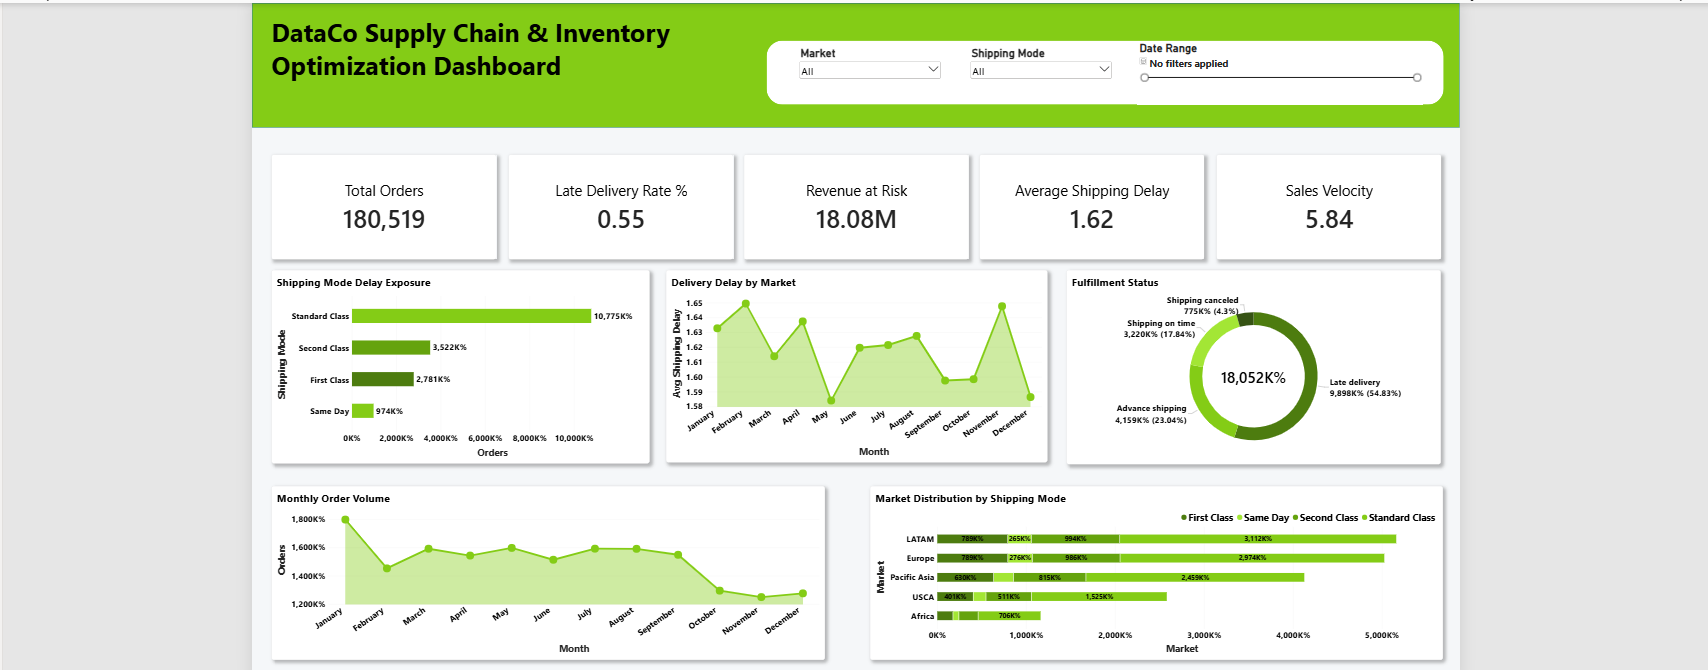

This screenshot's page, from the dashboard's own definition file:
{"tool":"powerbi","page":{"name":"Executive Overview","canvas":[3840,2160],"ordinal":0},"visuals":[{"type":"shape","box":[0,0,3841.3,396.1],"z":0},{"type":"textbox","box":[62,38.2,1574.7,262.5],"z":1000},{"type":"cardVisual","fields":{"Data":["cleaned_supply_chain.-- 1. Total Orders ShippedTotal Orders"]},"box":[62,482,715.8,334],"z":2000},{"type":"cardVisual","fields":{"Data":["cleaned_supply_chain.-- 3. Revenue at Risk ($)Revenue at Risk"]},"box":[1565.2,482,715,334],"z":3000},{"type":"cardVisual","fields":{"Data":["cleaned_supply_chain.-- 2. Late Delivery Rate %Late Delivery Rate %"]},"box":[816,482,715.8,334],"z":4000},{"type":"cardVisual","fields":{"Data":["cleaned_supply_chain.-- 4. Average Shipping Delay (Days)Avg Shipping Delay"]},"box":[2314.3,482,715,334],"z":5000},{"type":"cardVisual","fields":{"Data":["cleaned_supply_chain.Sales Velocity"]},"box":[3068.3,482,715,334],"z":6000},{"type":"clusteredBarChart","title":"Shipping Mode Delay Exposure","fields":{"Category":["cleaned_supply_chain.shipping_mode"],"Y":["cleaned_supply_chain.Total Orders"]},"box":[62,849.4,1202.5,615.6],"z":7000},{"type":"donutChart","title":"Fulfillment Status","fields":{"Category":["cleaned_supply_chain.delivery_status"],"Y":["cleaned_supply_chain.Total Orders"]},"box":[2590.9,850.4,1190.6,618],"z":8000},{"type":"lineChart","title":"Monthly Order Volume","fields":{"Category":["cleaned_supply_chain.order_date.Variation.Date Hierarchy.Month"],"Y":["cleaned_supply_chain.Total Orders"]},"box":[62,1536.5,1760.8,553.5],"z":9000},{"type":"barChart","title":"Market Distribution by Shipping Mode","fields":{"Category":["cleaned_supply_chain.market"],"Series":["cleaned_supply_chain.shipping_mode"],"Y":["cleaned_supply_chain.Total Orders"]},"box":[1966,1536.5,1822.8,553.5],"z":10000},{"type":"lineChart","title":"Delivery Delay by Market","fields":{"Category":["cleaned_supply_chain.order_date.Variation.Date Hierarchy.Month"],"Y":["cleaned_supply_chain.-- 4. Average Shipping Delay (Days)Avg Shipping Delay"]},"box":[1315.3,850.4,1213.2,612.3],"z":11000},{"type":"shape","box":[1638.4,119.1,2154.3,204.1],"z":11500},{"type":"slicer","title":"Market","fields":{"Values":["cleaned_supply_chain.market"]},"box":[1734.8,136.1,459.2,164.4],"z":12000},{"type":"slicer","title":"Market","fields":{"Values":["cleaned_supply_chain.order_date"]},"box":[2817.7,124.7,907.1,198.4],"z":13000},{"type":"slicer","title":"Market","fields":{"Values":["cleaned_supply_chain.shipping_mode"]},"box":[2279.1,136.1,459.2,164.4],"z":15000}]}

Visuals, with their boxes on the page's 3840x2160 design canvas (x1, y1, x2, y2). These are canvas units, not pixel positions in the 1708x670 screenshot, which may show the page scaled, cropped or inside an application window:
shape: 0/0/3841/396
textbox: 62/38/1637/301
cardVisual - cleaned_supply_chain.-- 1. Total Orders ShippedTotal Orders: 62/482/778/816
cardVisual - cleaned_supply_chain.-- 3. Revenue at Risk ($)Revenue at Risk: 1565/482/2280/816
cardVisual - cleaned_supply_chain.-- 2. Late Delivery Rate %Late Delivery Rate %: 816/482/1532/816
cardVisual - cleaned_supply_chain.-- 4. Average Shipping Delay (Days)Avg Shipping Delay: 2314/482/3029/816
cardVisual - cleaned_supply_chain.Sales Velocity: 3068/482/3783/816
"Shipping Mode Delay Exposure" clusteredBarChart: 62/849/1264/1465
"Fulfillment Status" donutChart: 2591/850/3782/1468
"Monthly Order Volume" lineChart: 62/1536/1823/2090
"Market Distribution by Shipping Mode" barChart: 1966/1536/3789/2090
"Delivery Delay by Market" lineChart: 1315/850/2528/1463
shape: 1638/119/3793/323
"Market" slicer: 1735/136/2194/300
"Market" slicer: 2818/125/3725/323
"Market" slicer: 2279/136/2738/300
